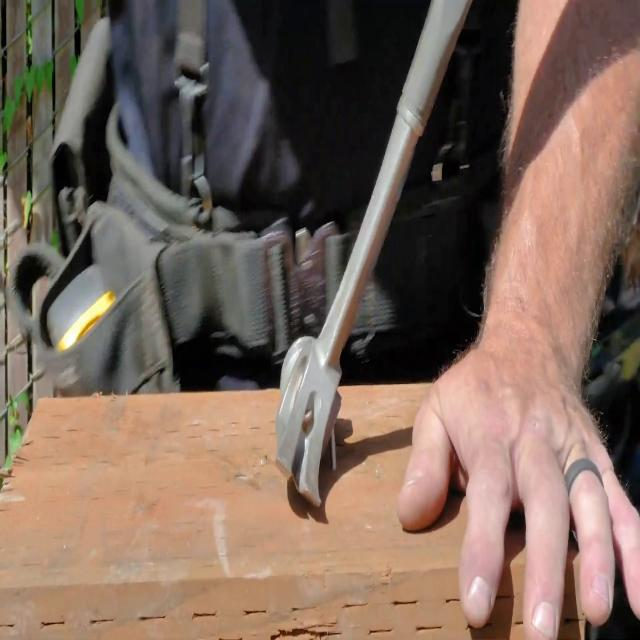hammer: (275, 0, 472, 510)
